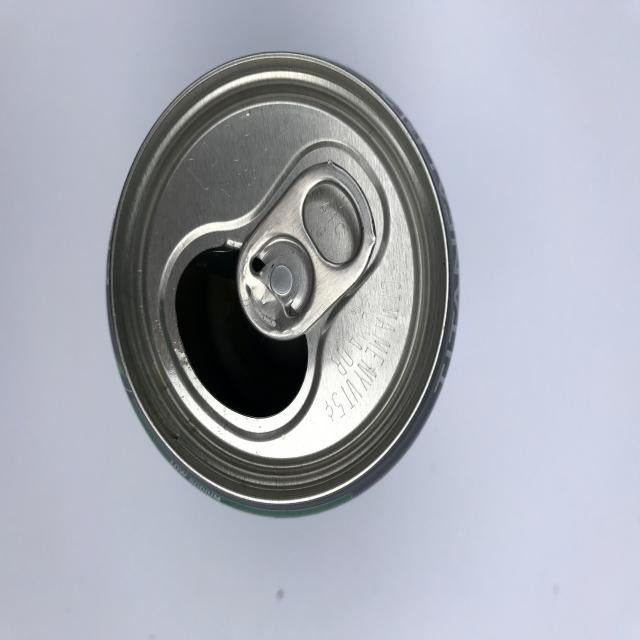Metal: (100, 37, 473, 532)
